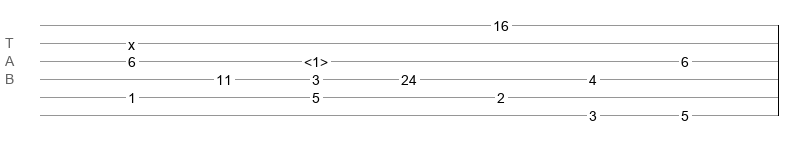1: (128, 90, 136, 100)
11: (216, 72, 232, 82)
16: (493, 18, 509, 28)
2: (497, 90, 505, 100)
24: (401, 72, 417, 82)
3: (312, 72, 320, 82), (589, 108, 597, 118)
4: (589, 72, 597, 82)
5: (312, 90, 320, 100), (681, 108, 689, 118)
6: (128, 54, 136, 64), (681, 54, 689, 64)
harmonic: (304, 54, 328, 64)
x: (128, 37, 135, 45)
